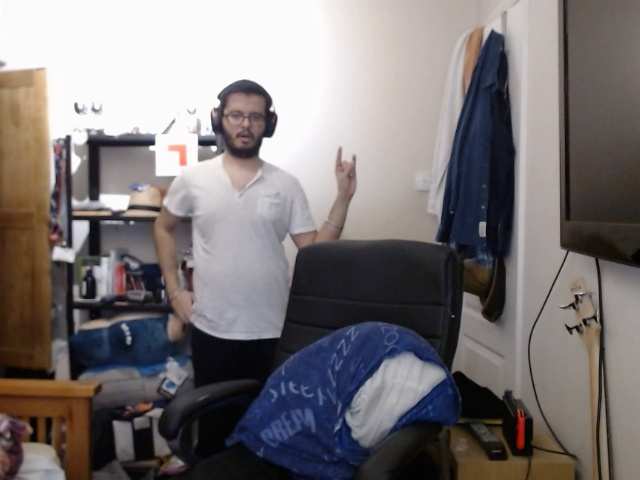Rock on: (325, 144, 363, 200)
